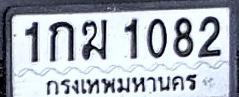0: (146, 18, 166, 58)
1: (124, 18, 137, 59), (25, 21, 38, 62)
2: (198, 16, 220, 57)
8: (173, 17, 193, 57)
A01: (48, 21, 74, 62)
A06: (81, 19, 107, 59)
BKK: (43, 70, 199, 96)
